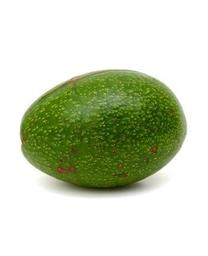avocado: (20, 69, 187, 189)
